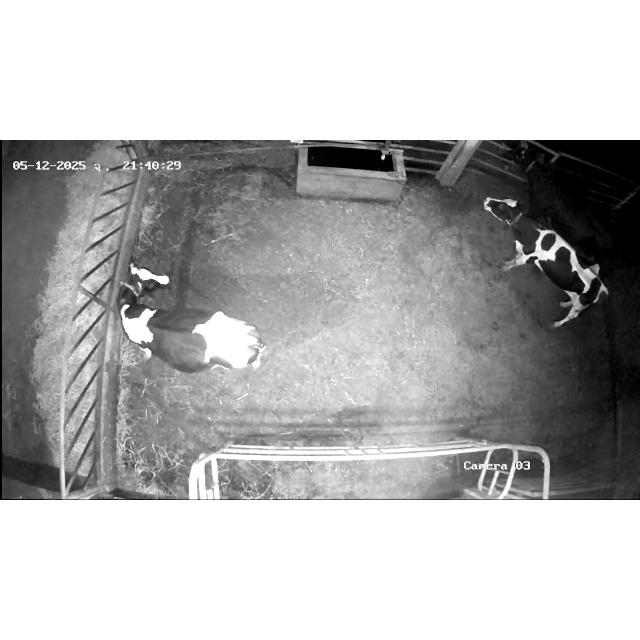stand: (483, 197, 608, 327), (118, 264, 265, 373), (506, 140, 613, 257)
